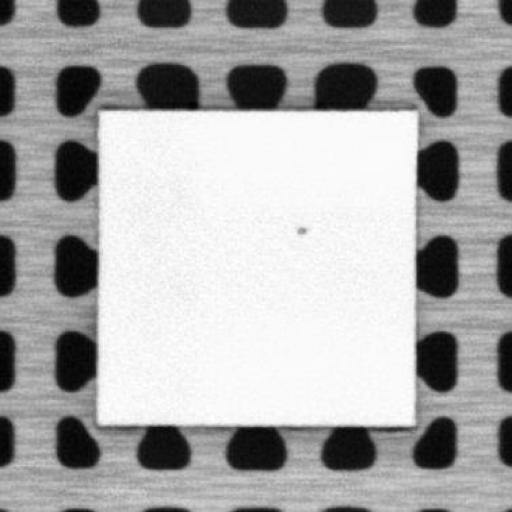DIE_INK: (292, 220, 308, 238)
